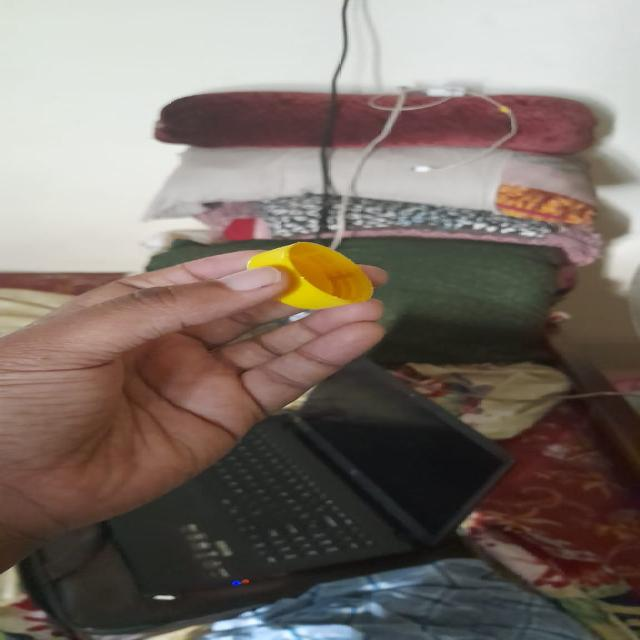Plastic - Recyclable: (222, 239, 384, 320)
